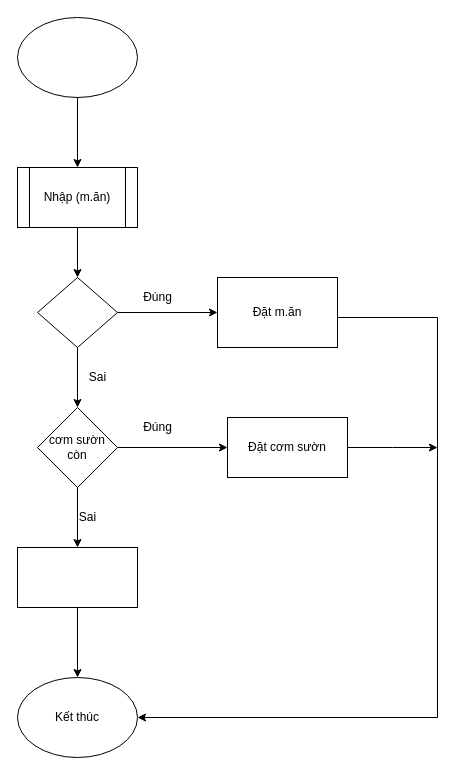
Image size: 463x775. Some labels were removed from this diagram. Here are the shapes that lost their labels. From the top down, the centre of each, then its label:
point 77,57: Bắt đầu
point 77,312: m.ăn còn
point 77,577: Đi ngủ
